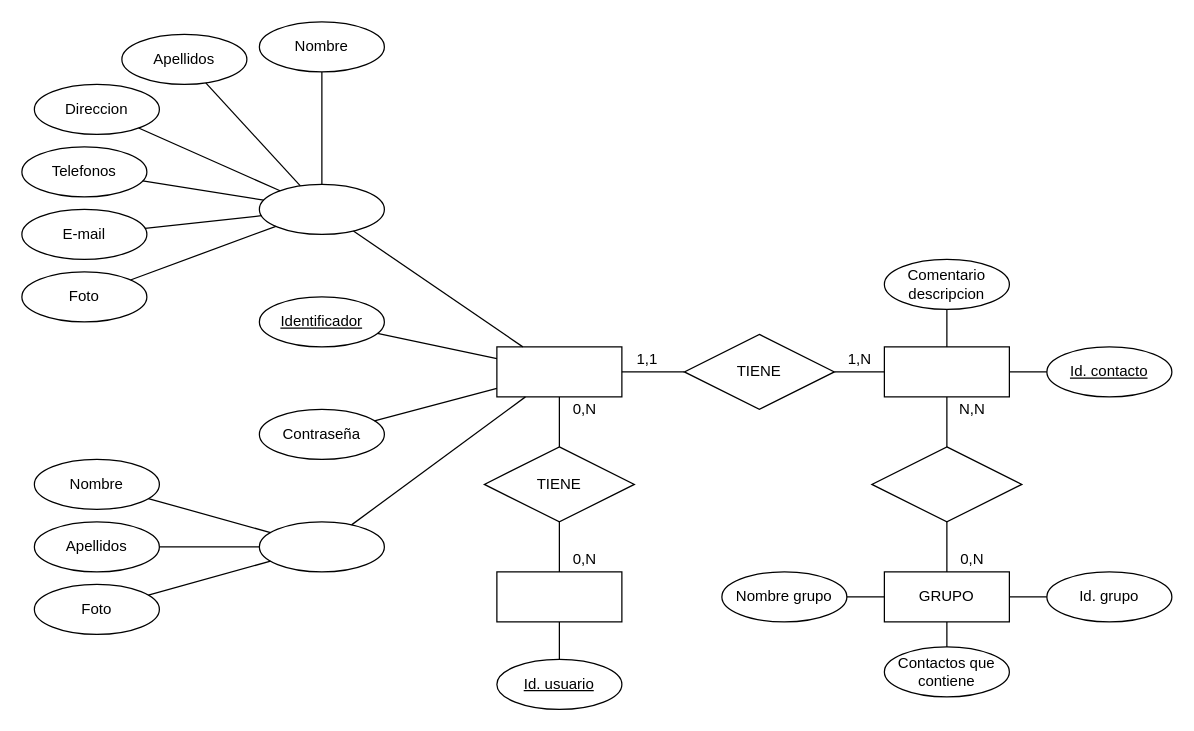
This 1194x731 diagram has some shape labels left out. The shapes that lost their labels are listed below. From the top down, each one's centre as x and y in pixels, then its label:
the point at 321,208: Datos personales
the point at 559,371: USUARIO
the point at 946,371: CONTACTO
the point at 946,484: FORMA
the point at 321,546: Celebridades
the point at 559,596: LISTA BLOQUEADO
